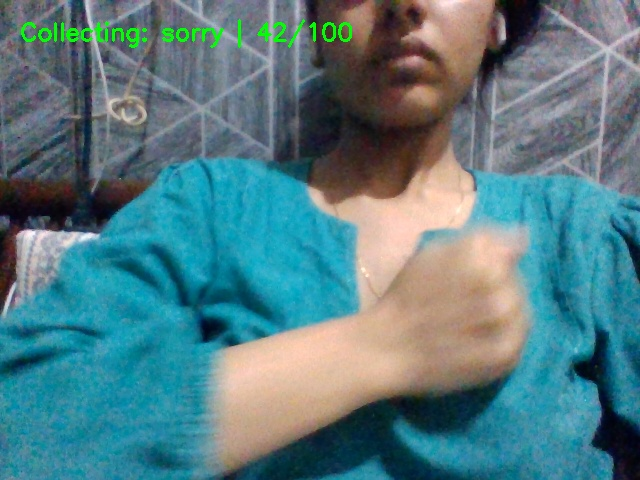sorry: (380, 205, 550, 445)
